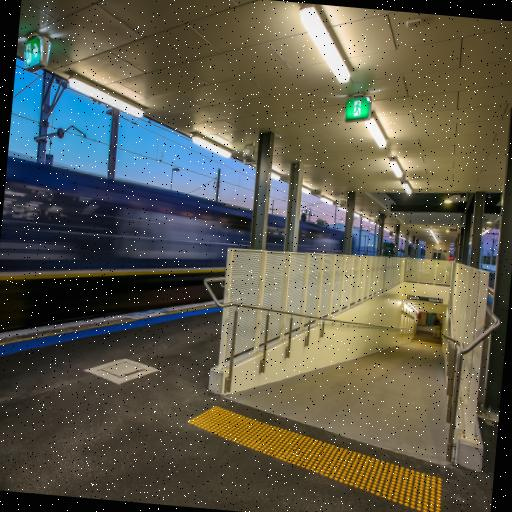handrail: (224, 306, 413, 385)
ramp: (225, 339, 445, 463)
signage: (343, 98, 372, 123)
tgsi: (187, 403, 442, 512)
